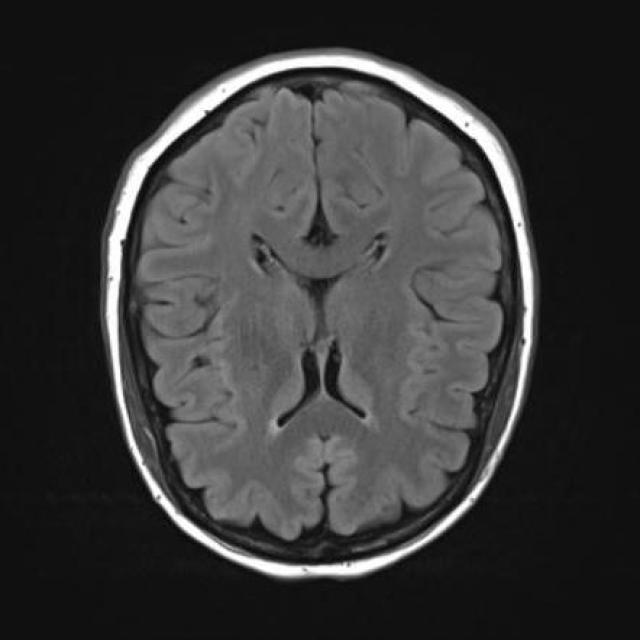notumor: (103, 49, 537, 576)
